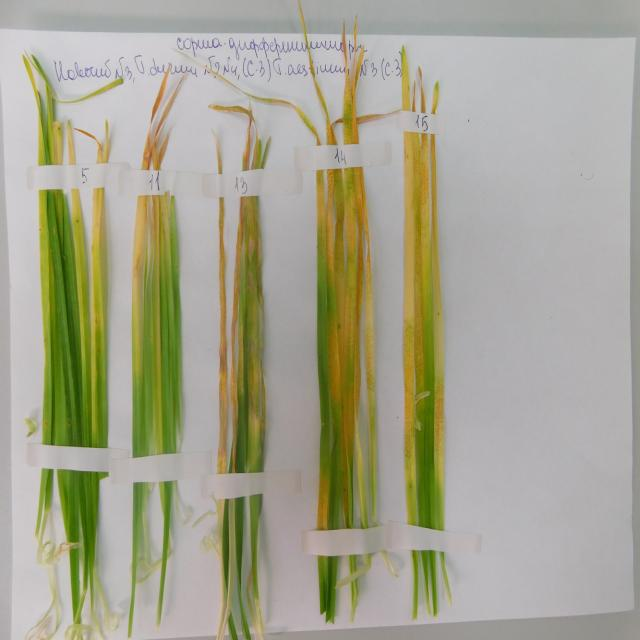wheat-yellowrust: (316, 166, 375, 532), (402, 132, 445, 533), (219, 189, 263, 476), (130, 195, 170, 384)
